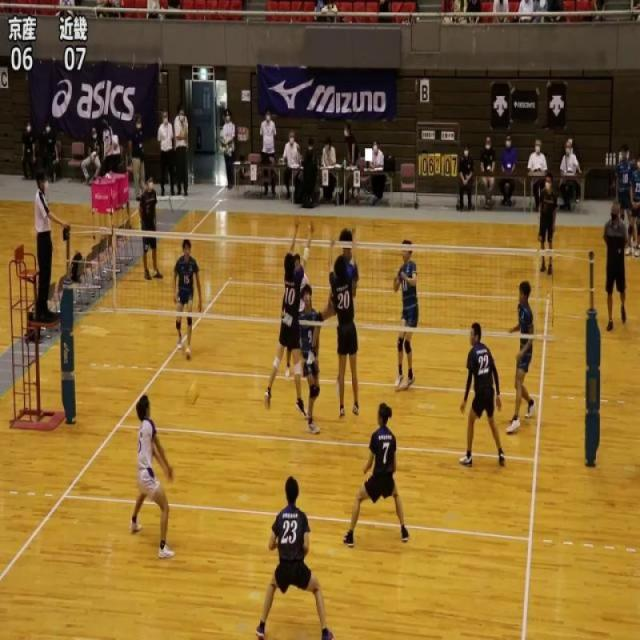volleyball: (184, 379, 200, 406)
